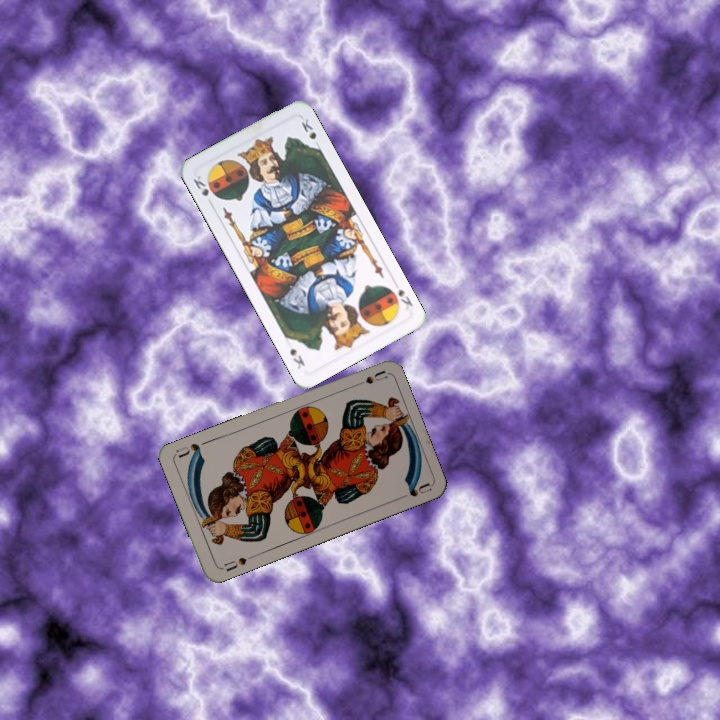SK: (189, 171, 216, 209), (394, 284, 415, 312)
SU: (348, 367, 389, 390), (217, 552, 256, 574)
